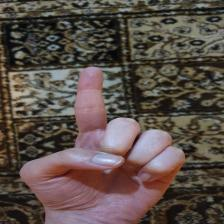one: (20, 66, 190, 214)
